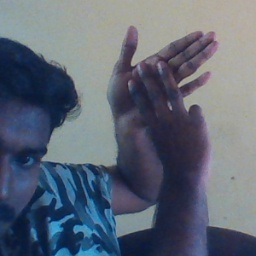M: (104, 24, 225, 171)
